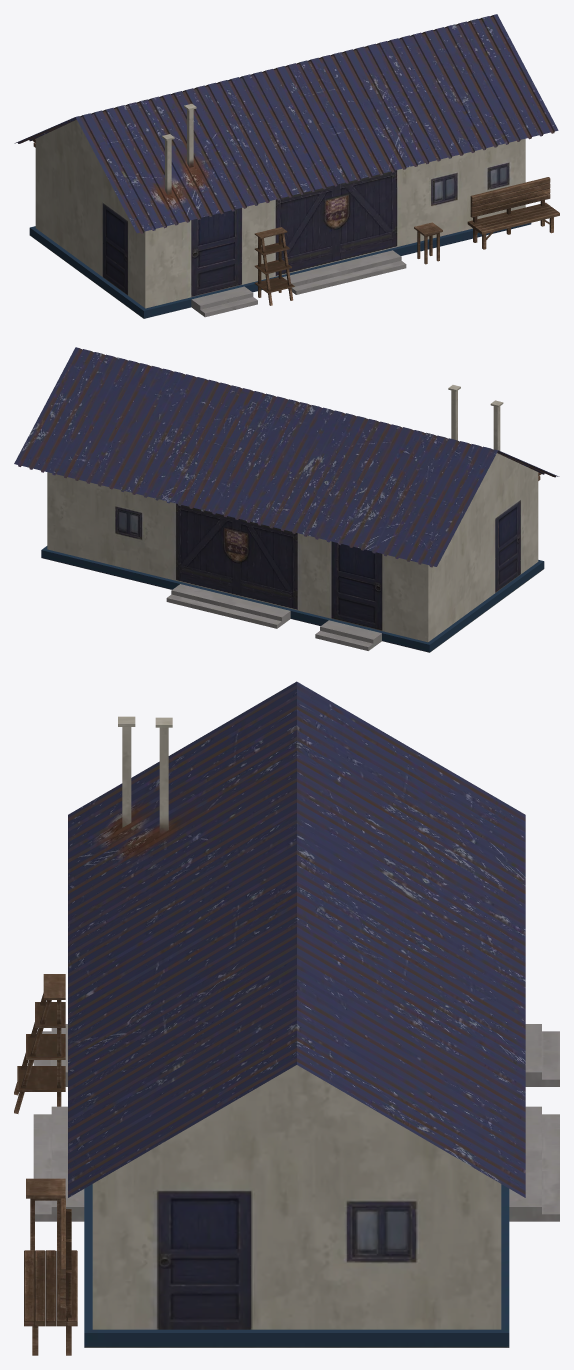
Rendered from house.glb.
3 views of the same model, one above another, from view 1: azimuth 30°, elevation 25°; view 2: azimuth 150°, elevation 25°; view 3: azimuth 270°, elevation 25° (orthographic). The views are drawn at different scales.
Visible parts, largest first — view 1: Object_12; view 2: Object_12; view 3: Object_12.
Part boxes in pixels (bbox=[...]): Object_12: bbox=[14, 14, 559, 318]; Object_12: bbox=[14, 347, 559, 652]; Object_12: bbox=[14, 681, 559, 1355].
Bounding box in the file's own units: 11.1 × 4.54 × 6.68.
Materials: 1 (1 with a texture image).
